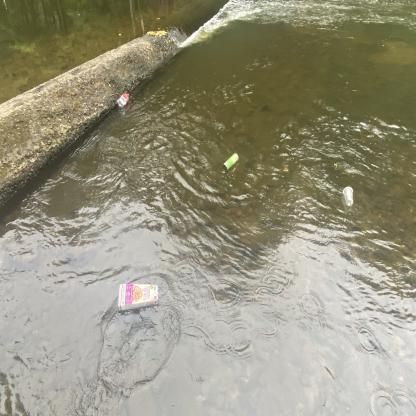trash: (113, 280, 162, 316), (220, 150, 242, 174), (113, 90, 132, 111), (340, 184, 356, 208)
